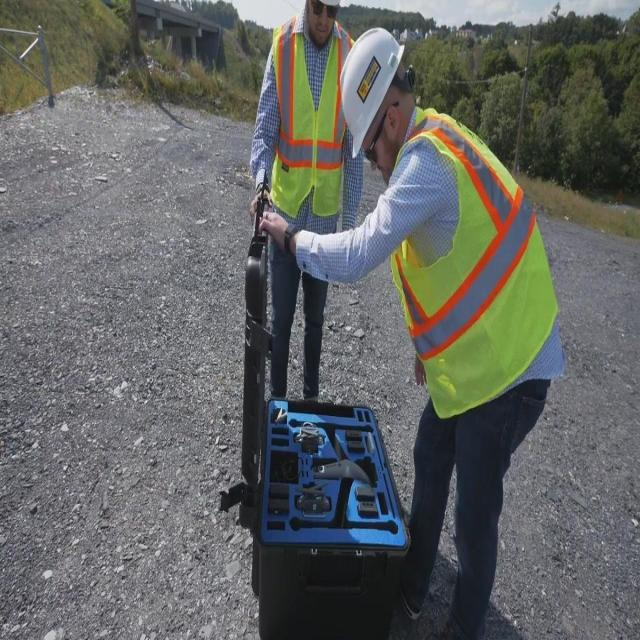Vest: (391, 107, 558, 416), (269, 13, 359, 218)
